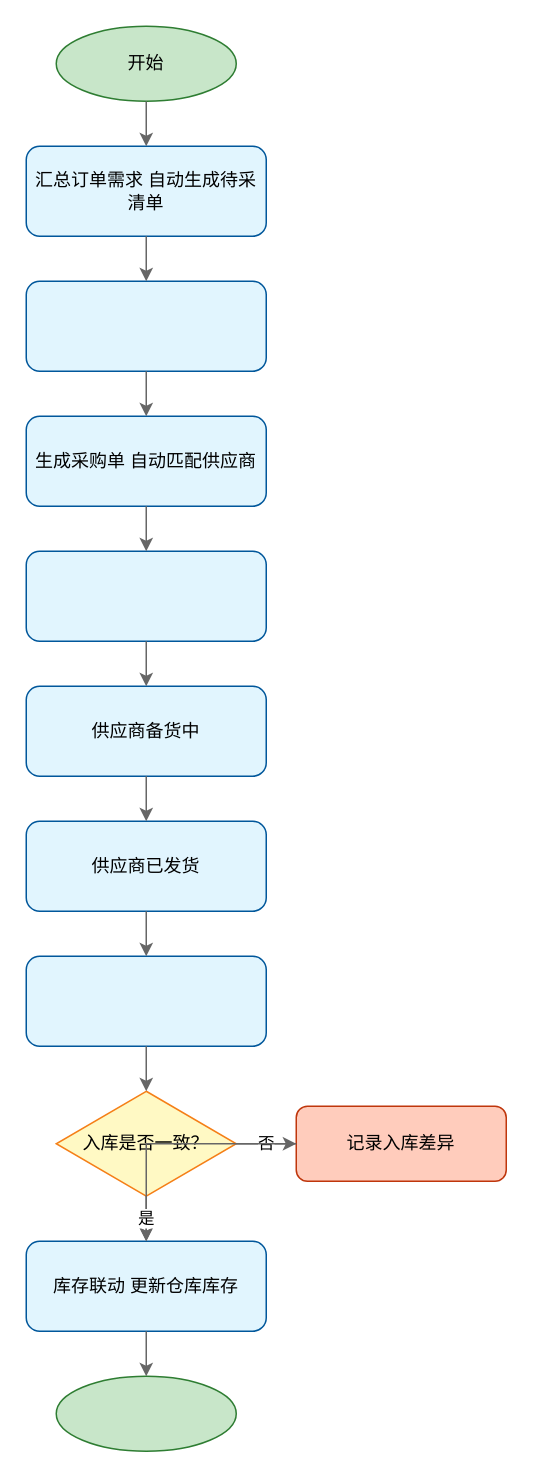
The diagram is 533 pixels wide and 1478 high, and some of its shapes have lost their labels. Each missing label, with the box of its shape:
供应商接单: (25, 550, 266, 641)
完成: (55, 1375, 236, 1451)
运营确认/手工添加 待采商品与数量: (25, 280, 266, 371)
采购入库 核对数量/金额: (25, 955, 266, 1046)
